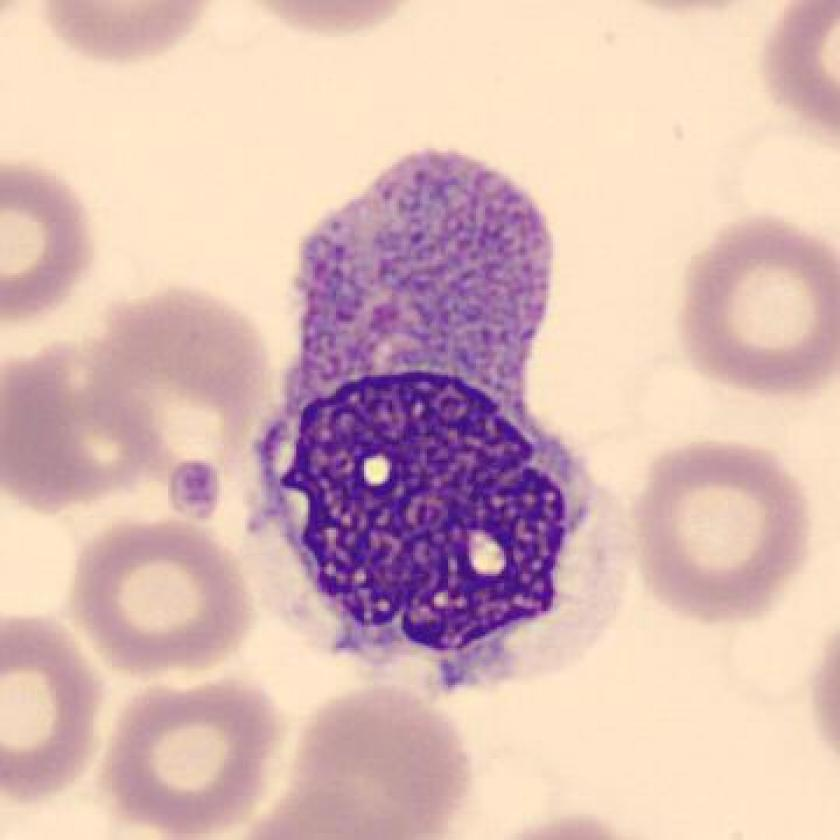monocyte: (230, 124, 643, 716)
